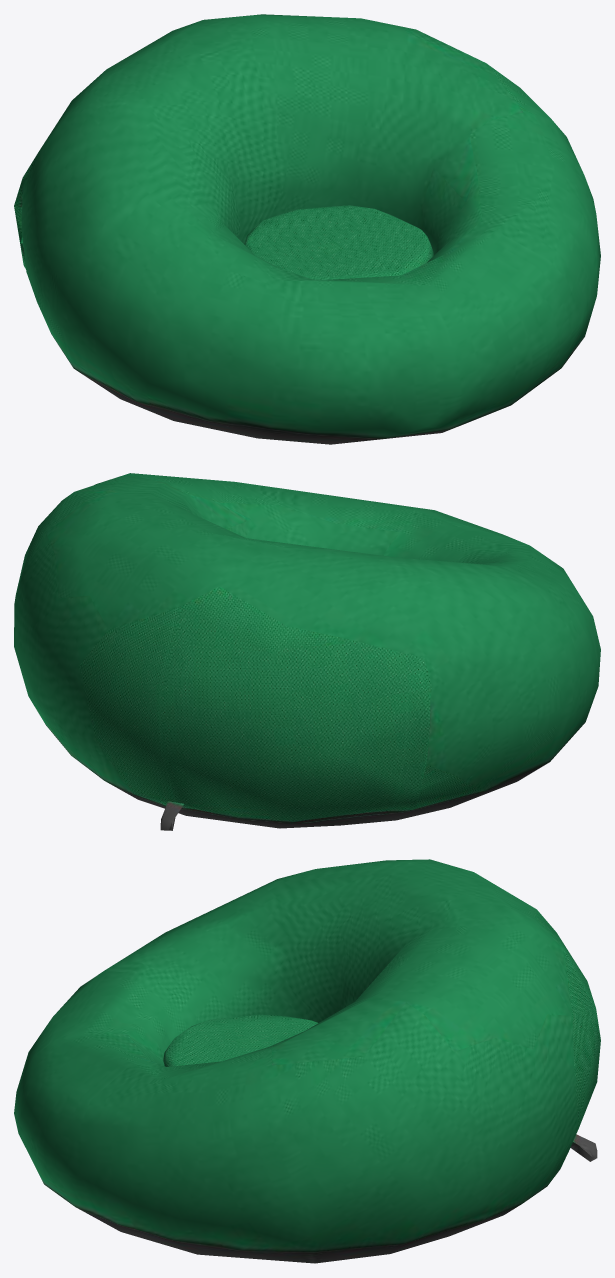
Rendered from 04 - BRÄNNBOLL Inflatable gaming lounge chair - bright green.glb.
3 views of the same model, one above another, from view 1: azimuth 30°, elevation 25°; view 2: azimuth 150°, elevation 25°; view 3: azimuth 270°, elevation 25° (orthographic).
Visible parts, largest first — view 1: ASY_ART_20584746_S01_NV01, ASY_LPT01_20584746_S01_NV01; view 2: ASY_ART_20584746_S01_NV01; view 3: ASY_ART_20584746_S01_NV01, ASY_LPT01_20584746_S01_NV01.
Boxes of the visible parts, x1,y1,x2,y2 form: ASY_ART_20584746_S01_NV01: [14, 14, 600, 444]; ASY_LPT01_20584746_S01_NV01: [244, 205, 433, 279]; ASY_ART_20584746_S01_NV01: [14, 473, 600, 830]; ASY_ART_20584746_S01_NV01: [14, 859, 600, 1263]; ASY_LPT01_20584746_S01_NV01: [163, 1014, 317, 1066].
Size of the model in its own units: 0.8686 by 0.4222 by 0.8646.
2 materials, 2 textured.
